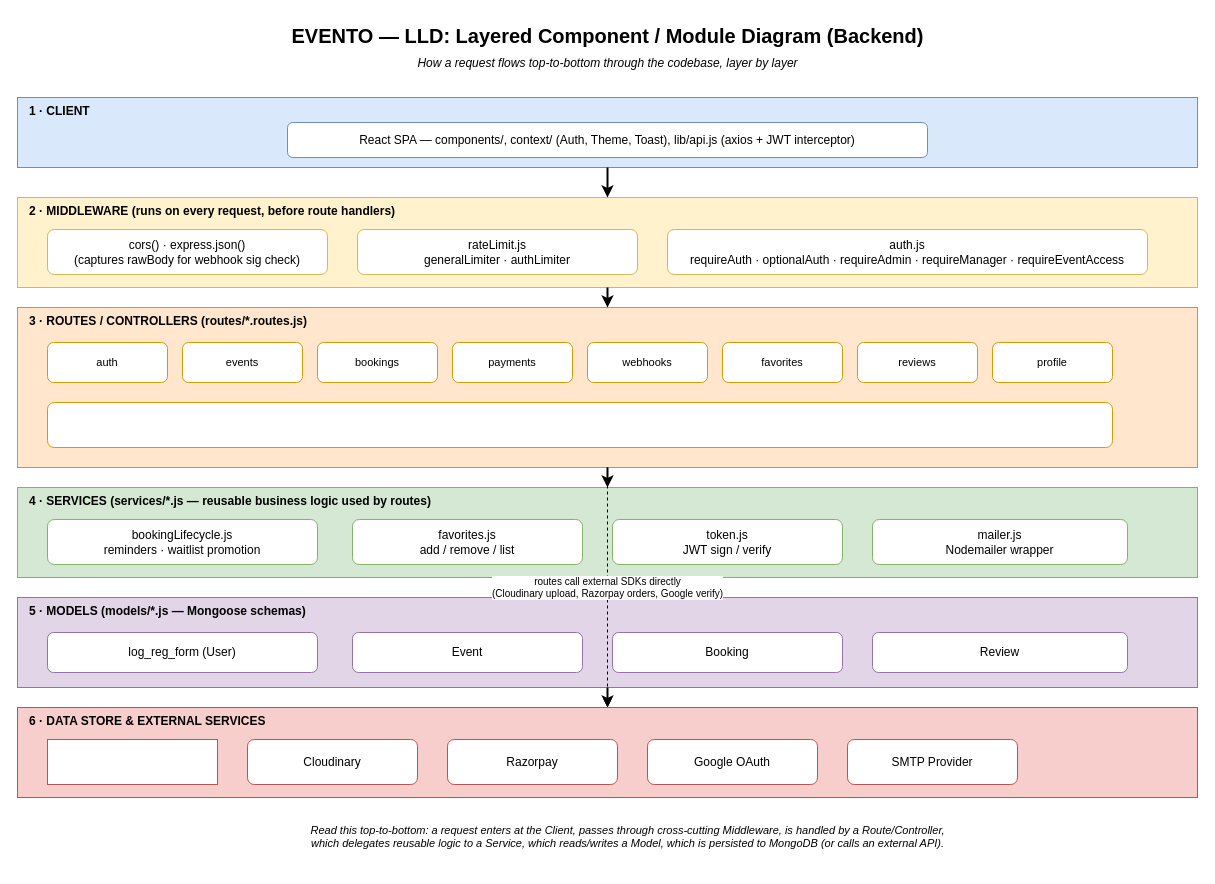
Some shapes in this 1215 by 884 pixel diagram are drawn without their labels. The centre of each missing label's shape, as x and y in pixels:
admin (events CRUD, manager assign, analytics, moderation, customers): the point at 579,425
MongoDB Atlas: the point at 132,761
